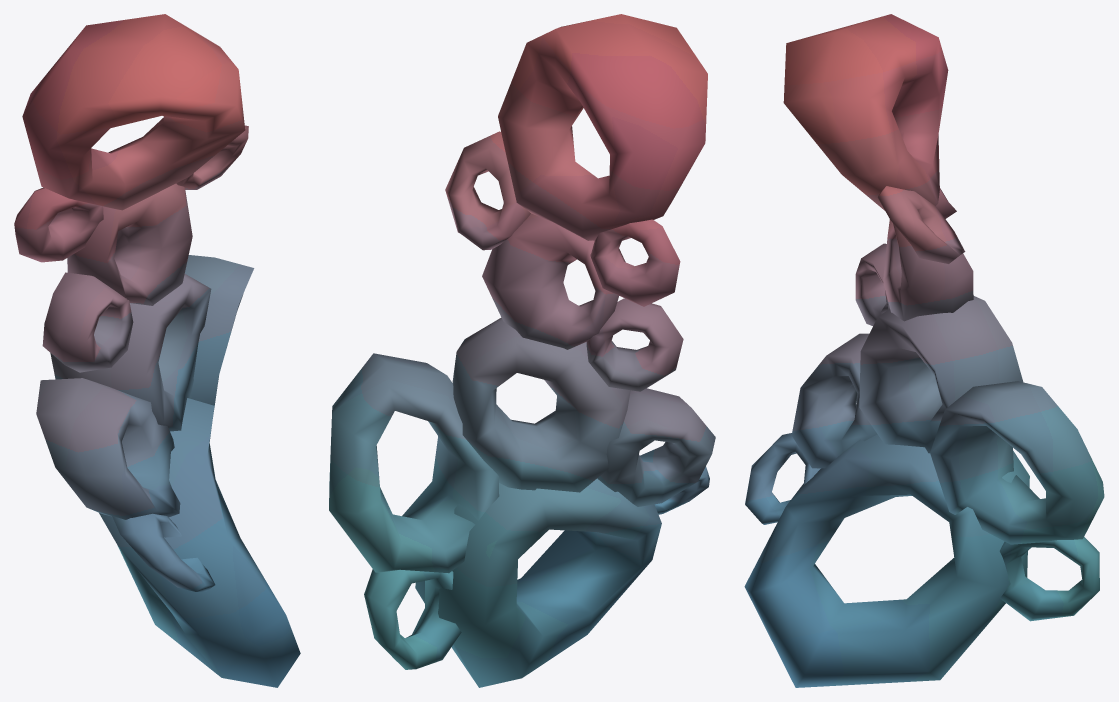
Rendered from model_coral_01.fbx.
3 views of the same model, side by side, from view 1: azimuth 30°, elevation 25°; view 2: azimuth 150°, elevation 25°; view 3: azimuth 270°, elevation 25° (orthographic). The views are drawn at different scales.
Parts seen in each view (by area): view 1: coral_01_geo; view 2: coral_01_geo; view 3: coral_01_geo.
Boxes of the visible parts, <box> form: coral_01_geo: <box>14,14,300,687</box>; coral_01_geo: <box>329,14,715,687</box>; coral_01_geo: <box>744,14,1104,687</box>.
Bounding box in the file's own units: 6.93 × 15.17 × 8.08.
